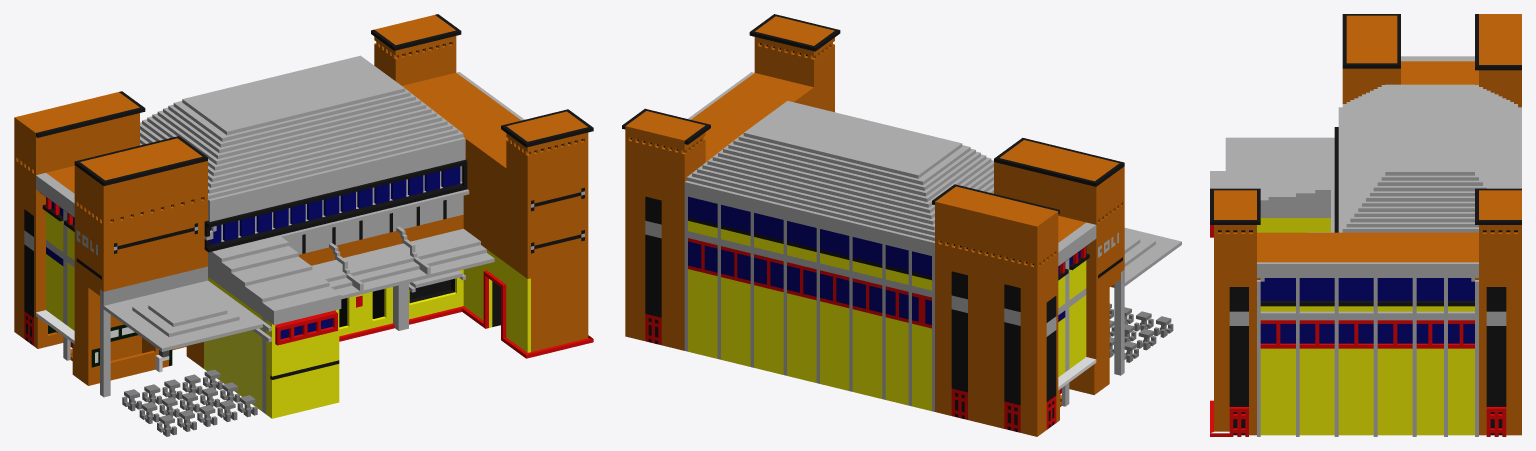
The model's file is coliseo_full.fbx.
The picture shows the model from 3 angles, left to right: view 1: azimuth 30°, elevation 25°; view 2: azimuth 150°, elevation 25°; view 3: azimuth 270°, elevation 25°; orthographic projection. The views are drawn at different scales.
Parts seen in each view (by area): view 1: coliseo; view 2: coliseo; view 3: coliseo.
Boxes of the visible parts, x1,y1,x2,y2 form: coliseo: [14, 14, 593, 436]; coliseo: [622, 14, 1181, 436]; coliseo: [1210, 14, 1521, 436].
Size of the model in its own units: 1260 by 610 by 800.
Materials: 1 (1 with a texture image).
